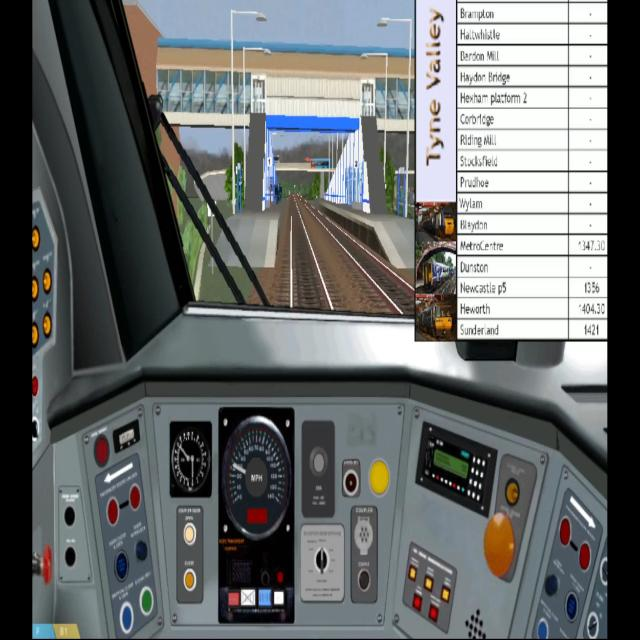Person: (265, 179, 286, 212)
Platform: (311, 198, 416, 271), (210, 191, 287, 268)
Spedometer: (218, 407, 295, 624)
Station: (157, 39, 416, 216)
Track: (303, 200, 415, 318), (270, 191, 349, 310)
